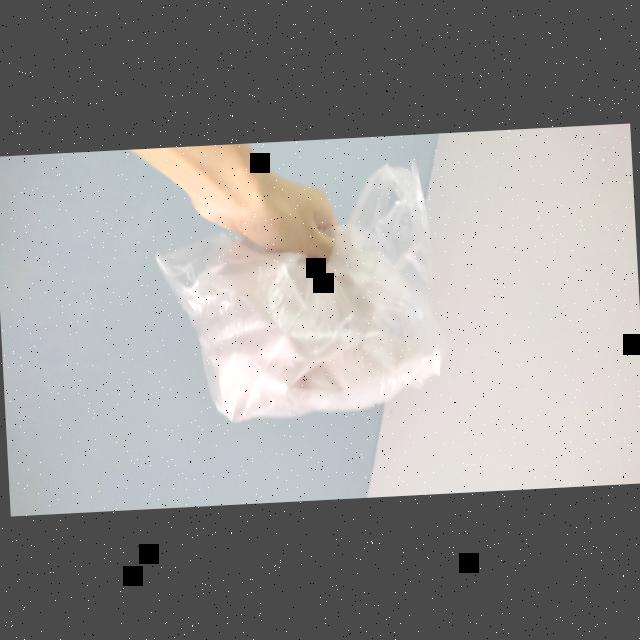plastic_bag: (158, 159, 448, 439)
